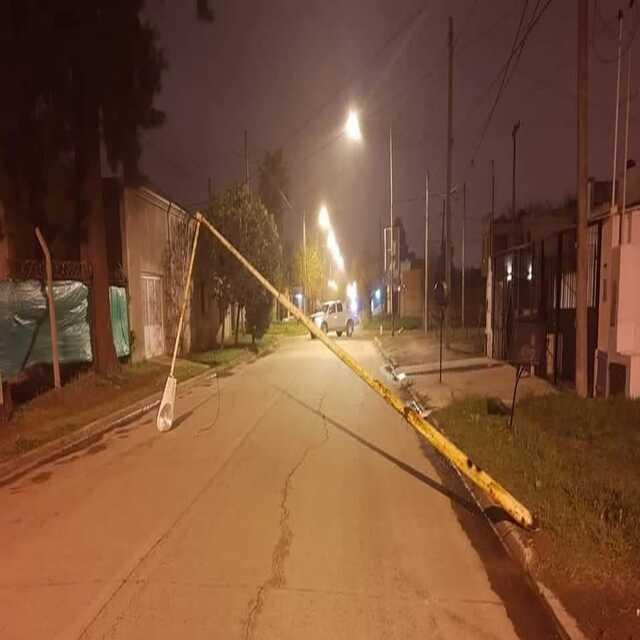Inclined Pole: (146, 202, 537, 528)
